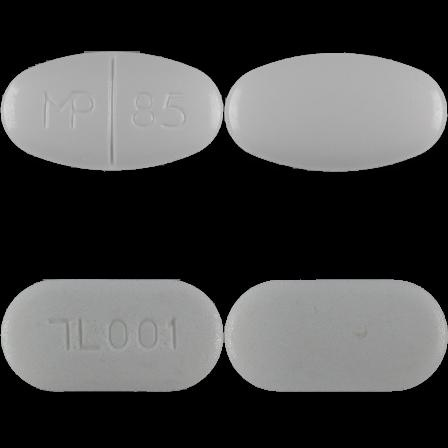10544-940: (0, 0, 224, 224)
